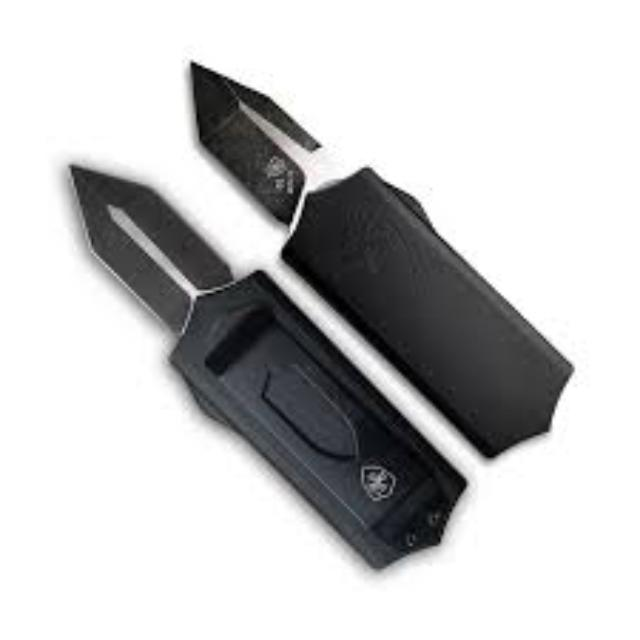knife: (66, 160, 467, 568), (188, 58, 574, 460)
